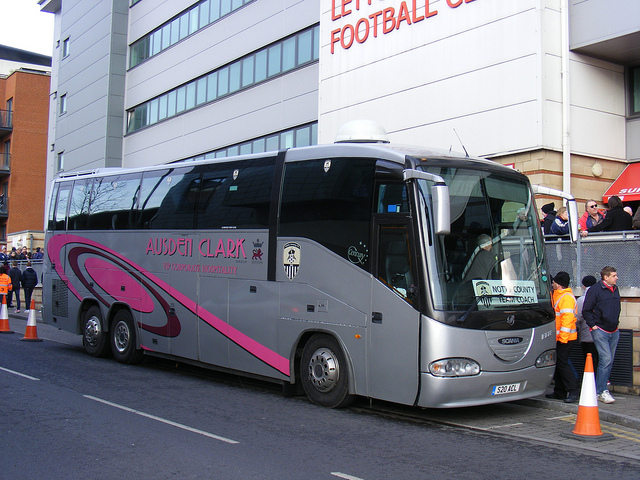Bus: (44, 163, 564, 414)
Person: (586, 264, 637, 409)
